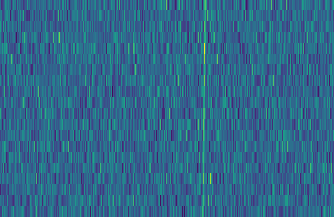signal: (198, 0, 210, 217)
